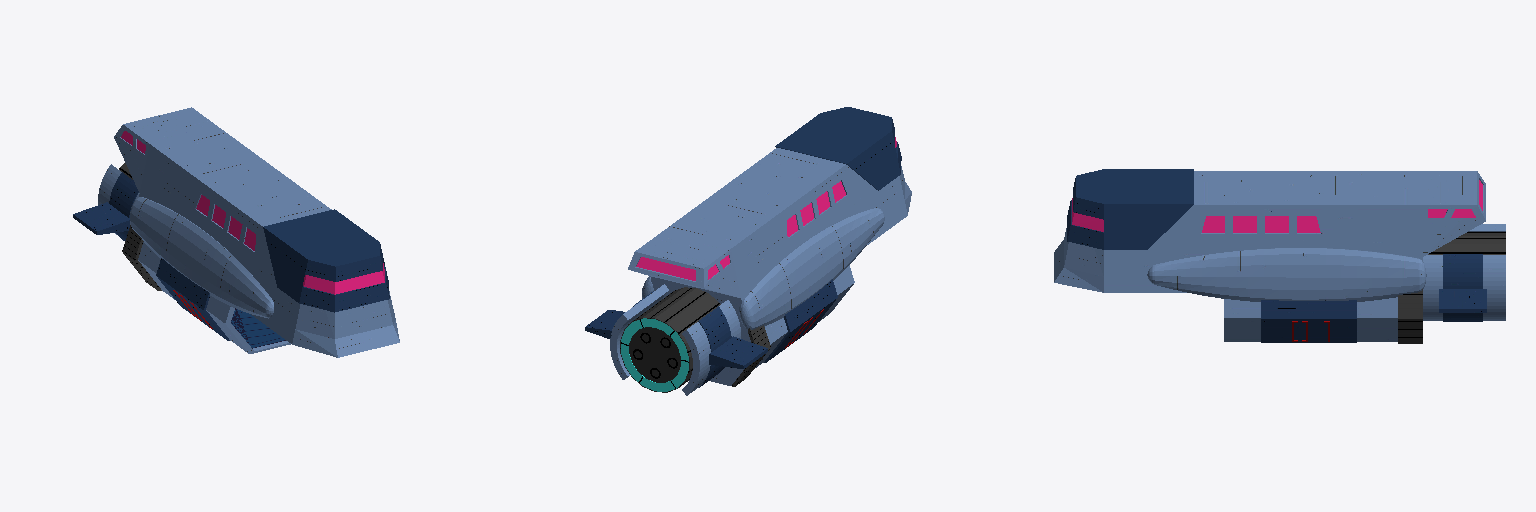
The picture shows the model from 3 angles: view 1: azimuth 30°, elevation 25°; view 2: azimuth 150°, elevation 25°; view 3: azimuth 270°, elevation 25°; orthographic projection.
Parts seen in each view (by area): view 1: Box001, Box125, Capsule003, Box107, Box089, Box008, Box002, Box021, Box099, Box045, Box096, Tube009 (+1 smaller); view 2: Box001, Capsule003, Box125, Box107, Tube002, Cylinder001, Tube001, Tube003, Box021, Box002, Box099, Tube004 (+4 smaller); view 3: Box001, Capsule001, Box125, Box025, Box107, Box002, Tube004, Tube010, Tube002, Box026, Box100, Box089 (+1 smaller).
Boxes of the visible parts, x1=… form: Box001: x1=139, y1=127, x2=331, y2=343; Box125: x1=263, y1=209, x2=389, y2=312; Capsule003: x1=130, y1=197, x2=273, y2=318; Box107: x1=114, y1=107, x2=217, y2=192; Box089: x1=296, y1=291, x2=392, y2=338; Box008: x1=292, y1=309, x2=399, y2=357; Box002: x1=138, y1=242, x2=290, y2=353; Box021: x1=156, y1=258, x2=229, y2=340; Box099: x1=73, y1=202, x2=129, y2=234; Box045: x1=231, y1=308, x2=285, y2=348; Box096: x1=303, y1=263, x2=384, y2=294; Tube009: x1=109, y1=172, x2=138, y2=240; Box001: x1=651, y1=148, x2=907, y2=332; Capsule003: x1=739, y1=208, x2=884, y2=329; Box125: x1=775, y1=107, x2=901, y2=190; Box107: x1=628, y1=232, x2=740, y2=297; Tube002: x1=620, y1=287, x2=720, y2=392; Cylinder001: x1=629, y1=327, x2=680, y2=382; Tube001: x1=621, y1=318, x2=688, y2=391; Tube003: x1=682, y1=300, x2=740, y2=395; Box021: x1=764, y1=279, x2=837, y2=362; Box002: x1=710, y1=265, x2=854, y2=385; Box099: x1=709, y1=336, x2=767, y2=368; Tube004: x1=610, y1=284, x2=668, y2=379; Box001: x1=1104, y1=171, x2=1422, y2=292; Capsule001: x1=1147, y1=248, x2=1426, y2=301; Box125: x1=1067, y1=169, x2=1193, y2=249; Box025: x1=1261, y1=300, x2=1356, y2=342; Box107: x1=1423, y1=171, x2=1485, y2=256; Box002: x1=1224, y1=297, x2=1397, y2=341; Tube004: x1=1423, y1=255, x2=1505, y2=320; Tube010: x1=1443, y1=254, x2=1482, y2=321; Tube002: x1=1428, y1=232, x2=1505, y2=254; Box026: x1=1398, y1=289, x2=1422, y2=343; Box100: x1=1439, y1=289, x2=1486, y2=312; Box089: x1=1064, y1=228, x2=1103, y2=276.
Size of the model in its own units: 90.55 by 75.59 by 223.
8 materials, 8 textured.